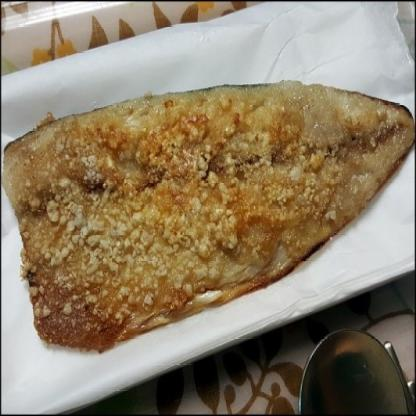Peixe: (0, 64, 415, 350)
